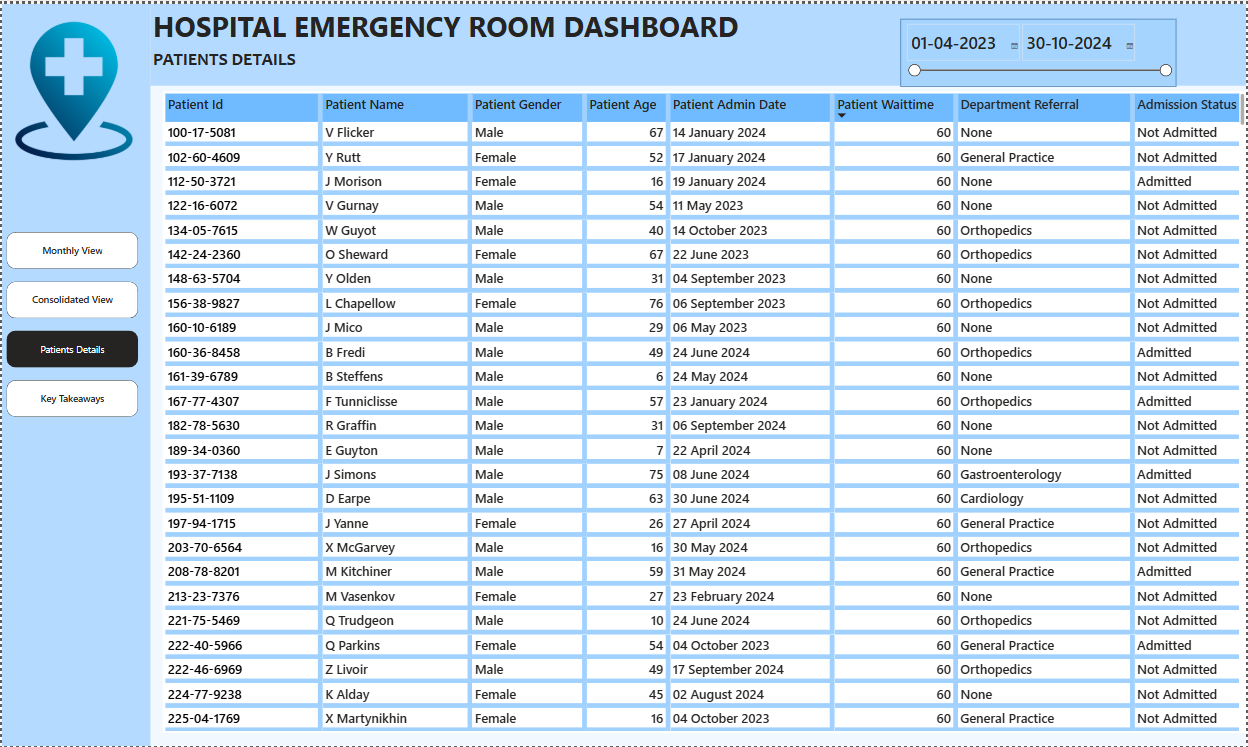

The dashboard page shown, as its layout file describes it:
{"tool":"powerbi","page":{"name":"Patients Details","canvas":[2600,1550],"ordinal":2},"visuals":[{"type":"shape","box":[310.2,0,2290.2,170.8],"z":0},{"type":"shape","box":[0,0,310.2,1551.2],"z":1000},{"type":"textbox","box":[310.2,0,1247.9,94.1],"z":2000},{"type":"textbox","box":[310.3,86.2,406.9,86.2],"z":3000},{"type":"slicer","fields":{"Values":["Date Table.Date"]},"box":[1875.9,31,575.9,141.4],"z":4000},{"type":"image","box":[0,31,300,300],"z":5000},{"type":"tableEx","fields":{"Values":["Hospital ER_Data.Patient Id","Hospital ER_Data.Patient Full Name","Hospital ER_Data.Patient Gender","Sum(Hospital ER_Data.Patient Age)","Hospital ER_Data.Patient Admin Date","Sum(Hospital ER_Data.Patient Waittime)","Hospital ER_Data.Department Referral","Hospital ER_Data.Admission Status"]},"box":[334.5,182.8,2265.5,1341.4],"z":6000},{"type":"pageNavigator","box":[10.5,477.6,275.4,386.9],"z":6001}]}

Visuals, with their boxes in screenshot pixels (x1, y1, x2, y2), scaled from the page's 2600x1550 canvas onto the 1248x747 screenshot:
shape: x1=149, y1=0, x2=1247, y2=82
shape: x1=0, y1=0, x2=149, y2=746
textbox: x1=149, y1=0, x2=748, y2=45
textbox: x1=149, y1=42, x2=344, y2=83
slicer - Date Table.Date: x1=900, y1=15, x2=1177, y2=83
image: x1=0, y1=15, x2=144, y2=160
tableEx - Hospital ER_Data.Patient Id x Hospital ER_Data.Patient Full Name: x1=161, y1=88, x2=1247, y2=735
pageNavigator: x1=5, y1=230, x2=137, y2=417
